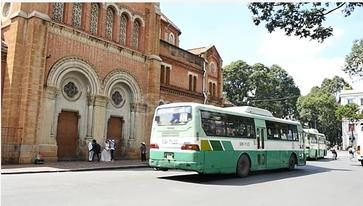bus: (143, 94, 319, 186), (300, 124, 338, 166)
